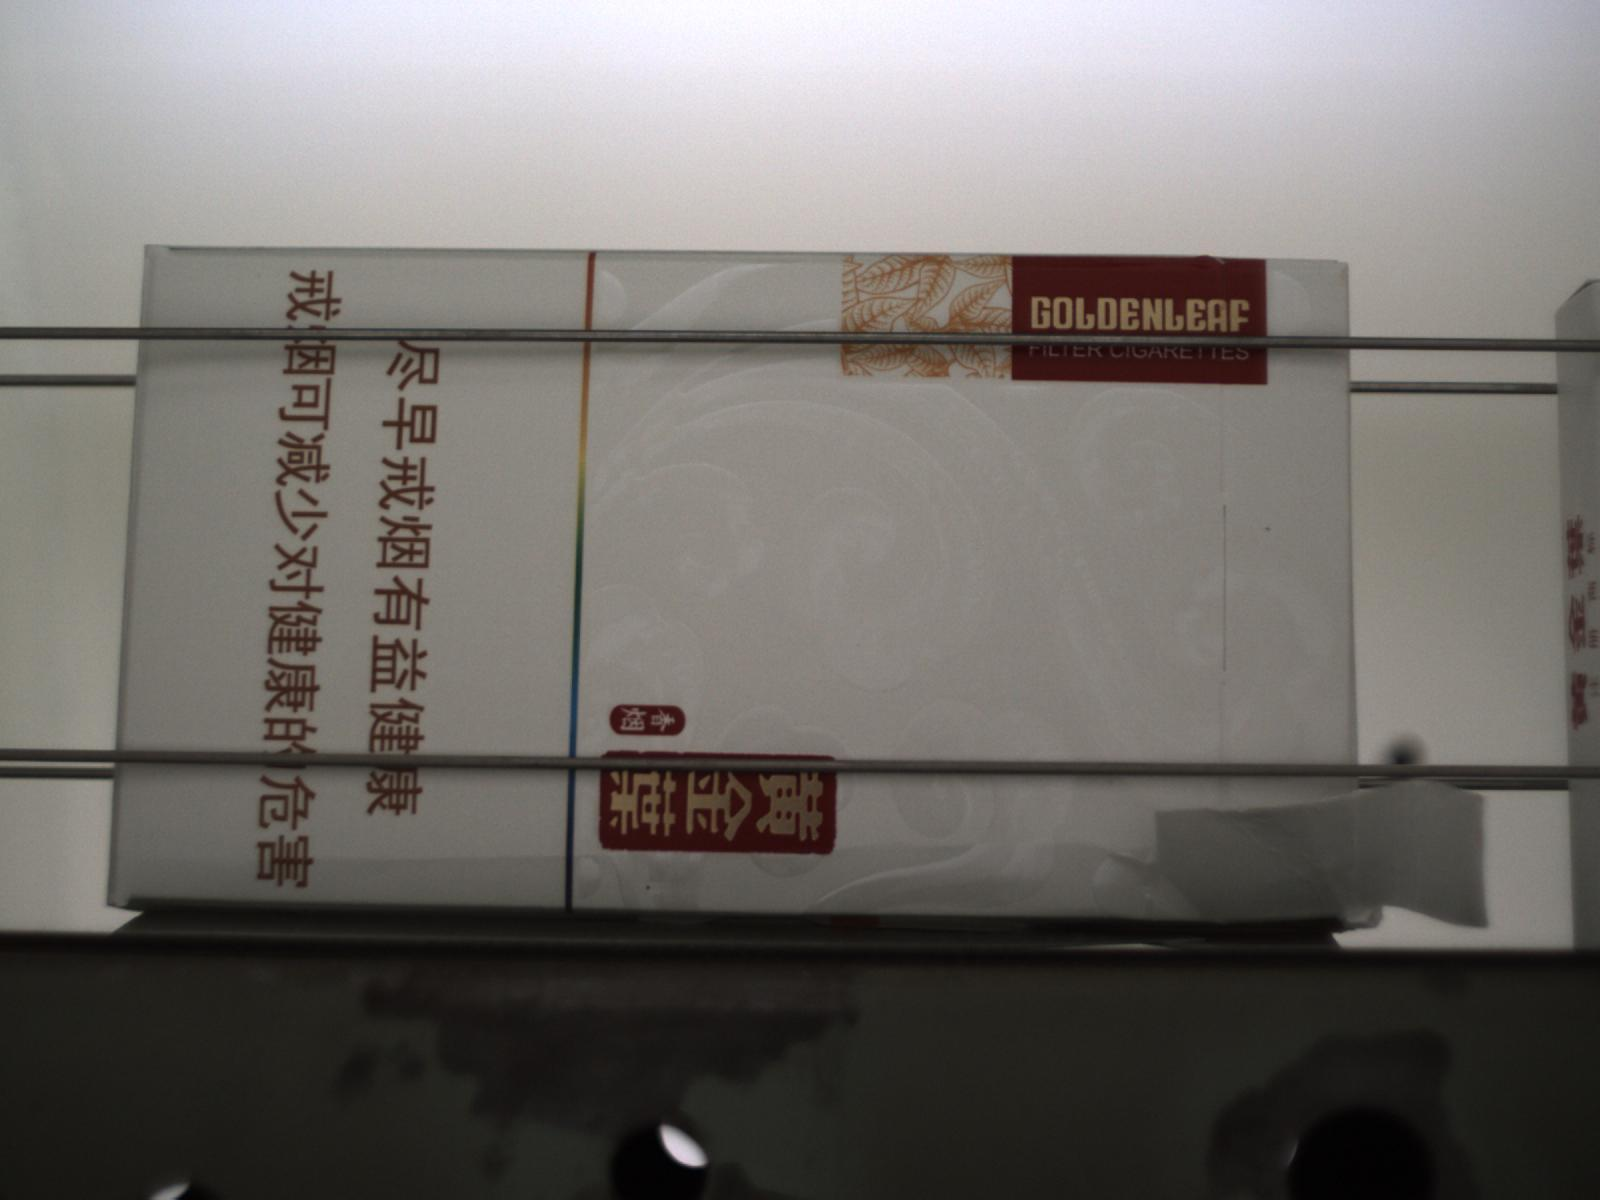boxDamage_slight: (113, 846, 1393, 935)
dirtySpot: (643, 884, 655, 892), (1264, 524, 1274, 534)
frame: (1153, 773, 1492, 932)
